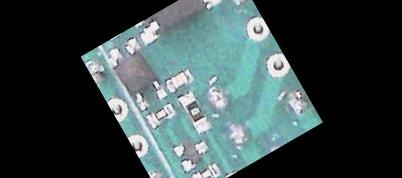chip-capacitor: (161, 64, 198, 96)
chip-resistor: (174, 88, 213, 136), (143, 98, 180, 132), (187, 159, 223, 178)
ic: (102, 32, 170, 114), (130, 0, 228, 51)
transistor: (167, 130, 215, 177)
